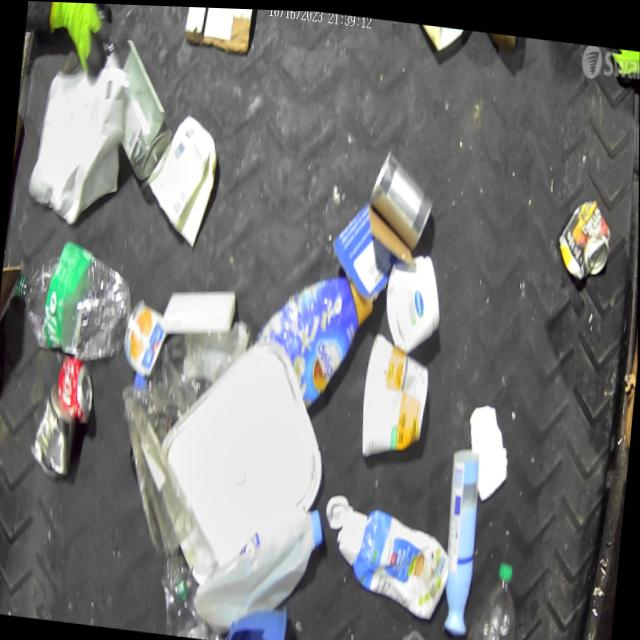can: (364, 143, 436, 249), (554, 188, 615, 280), (26, 381, 80, 479), (53, 350, 98, 424)
milk_jug: (192, 489, 326, 640)
plastic_bottle: (9, 233, 136, 363), (459, 551, 523, 640)
